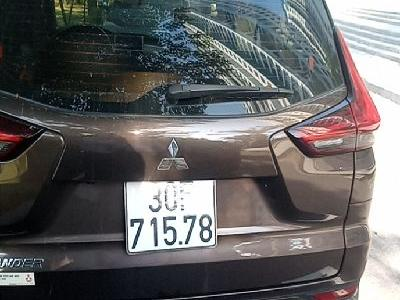lisence: (124, 179, 221, 255)
